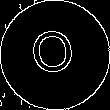O_S: (29, 26, 81, 84)
